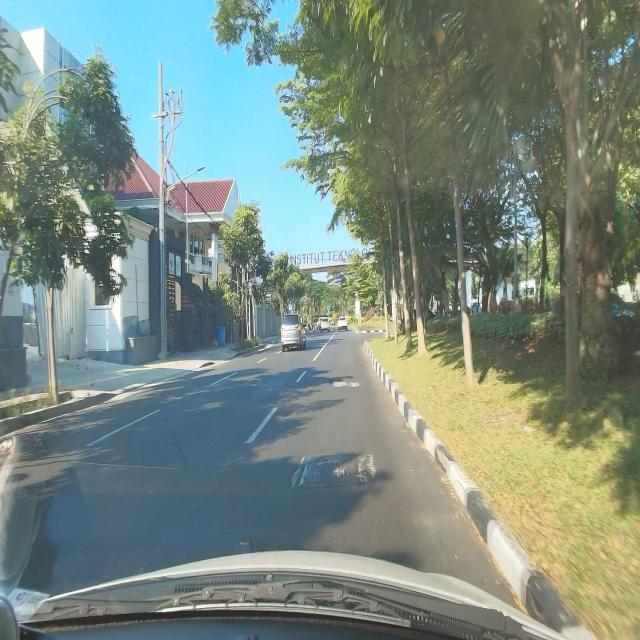car: (280, 312, 306, 353)
